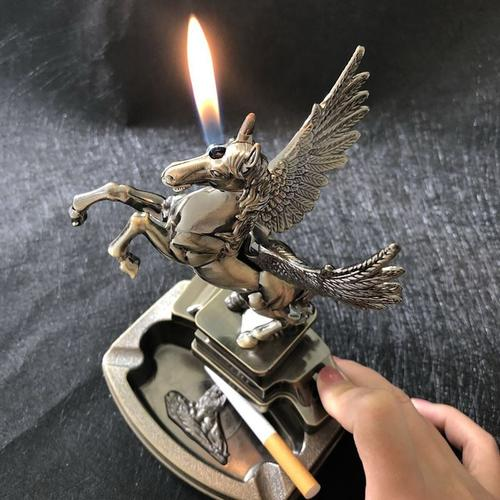Fire: (179, 13, 229, 146)
